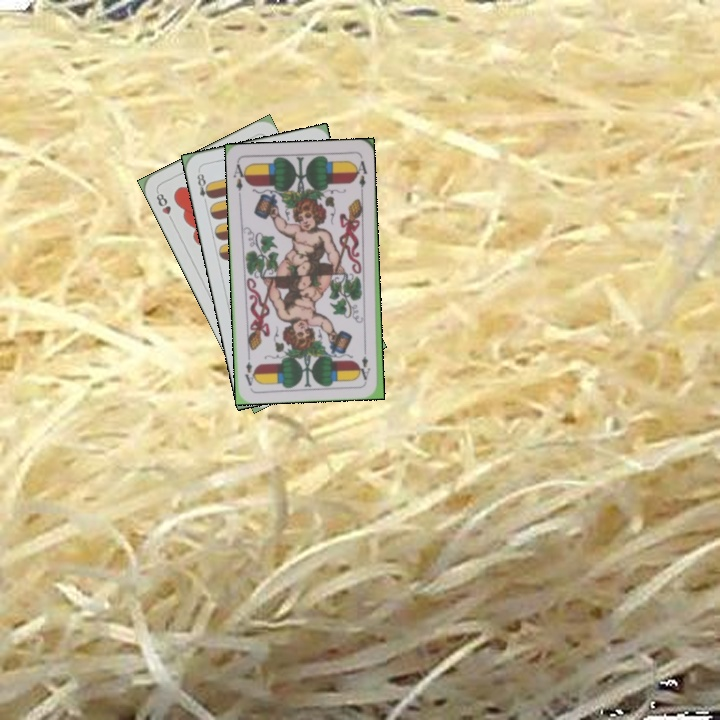E8: (193, 167, 214, 207)
EA: (229, 159, 250, 199), (358, 342, 373, 382)
H8: (152, 187, 176, 225)
